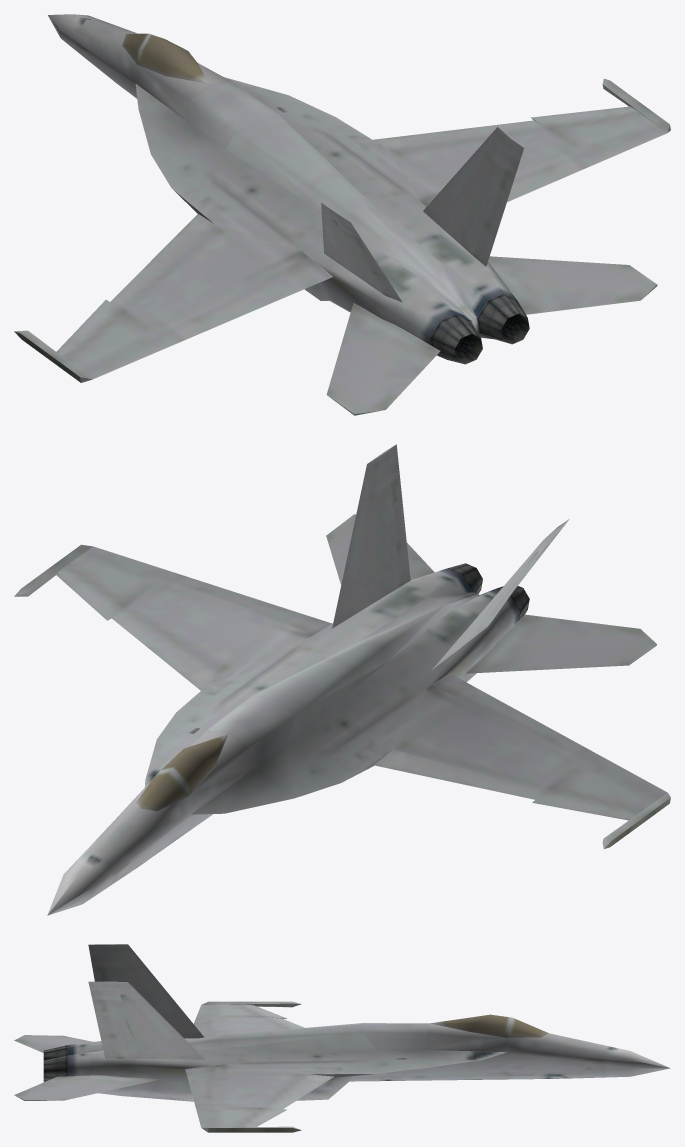
Rendered from ea00.ico.obj.
3 views of the same model, one above another, from view 1: azimuth 30°, elevation 25°; view 2: azimuth 150°, elevation 25°; view 3: azimuth 270°, elevation 25° (orthographic). The views are drawn at different scales.
Bounding box in the file's own units: 3.37 × 1.14 × 4.6.
Materials: 1 (1 with a texture image).
